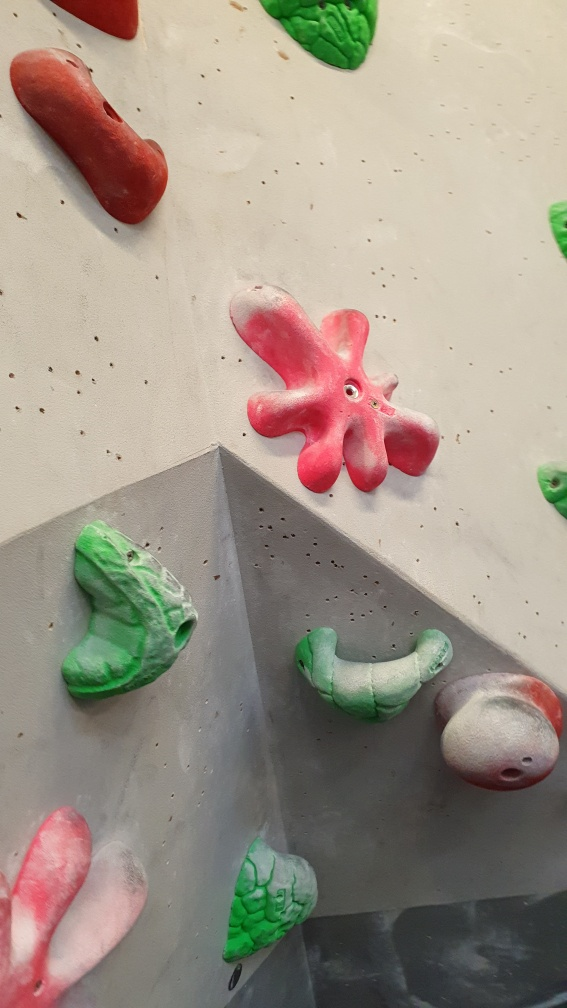Hand Start: (219, 961, 248, 997)
Jug: (290, 617, 458, 731), (216, 836, 323, 968)
Octopus Pinch: (227, 275, 440, 497), (2, 805, 149, 1006)
Sloper: (433, 671, 566, 804)
